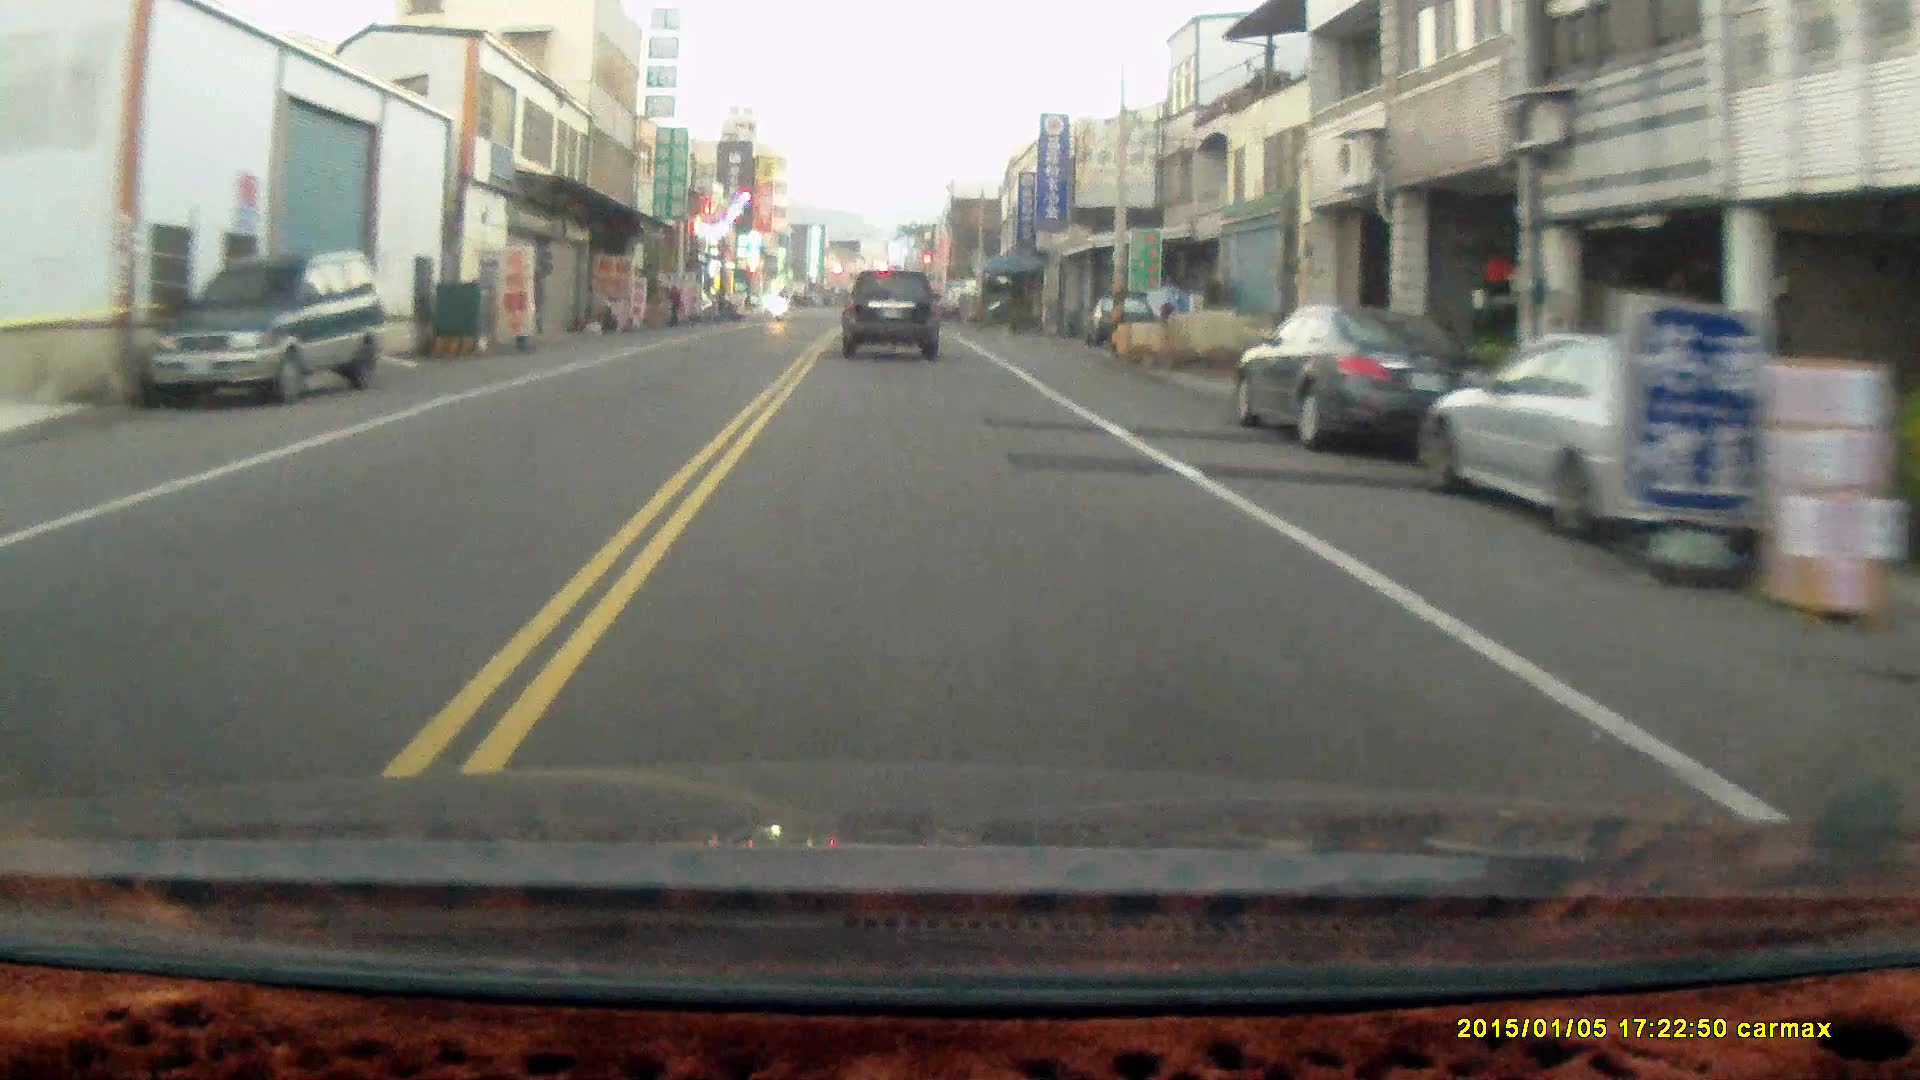pedestrian: (663, 280, 683, 328)
vehicle: (1428, 327, 1863, 529), (1233, 300, 1502, 450), (148, 252, 384, 409), (842, 269, 944, 361)
